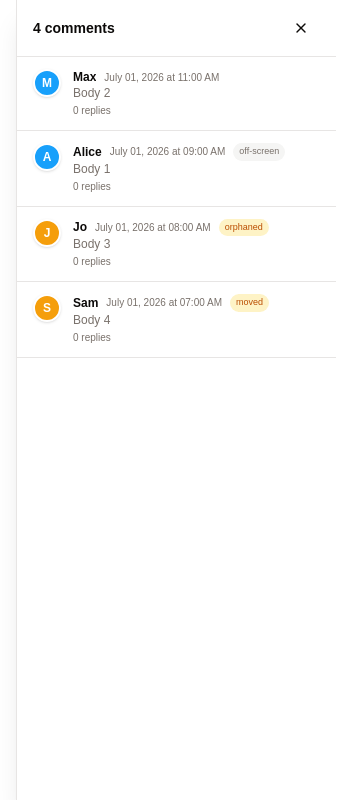
Test: CommentsDrawer › efface la note « hors écran » quand on sélectionne ensuite une ligne visible
Click the button with test id "drawer-row" that starts with "Alice".
click(168, 152)  # box [17, 131, 336, 206]
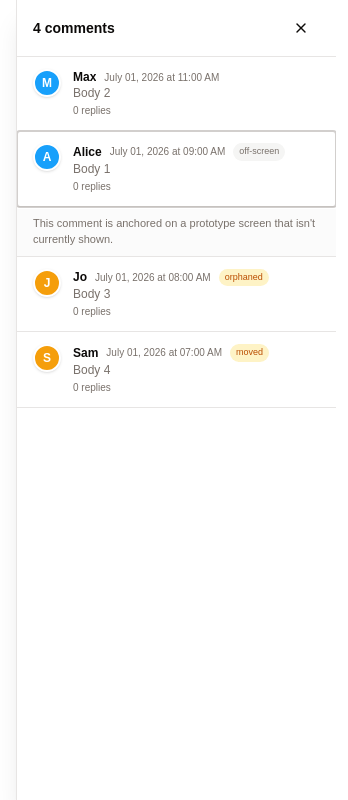
Expected: the text with test id "offscreen-notice" is shown, [17, 206, 336, 256]
Click the button with test id "drawer-row" that starts with "Max".
click(162, 77)  # box [17, 57, 336, 131]
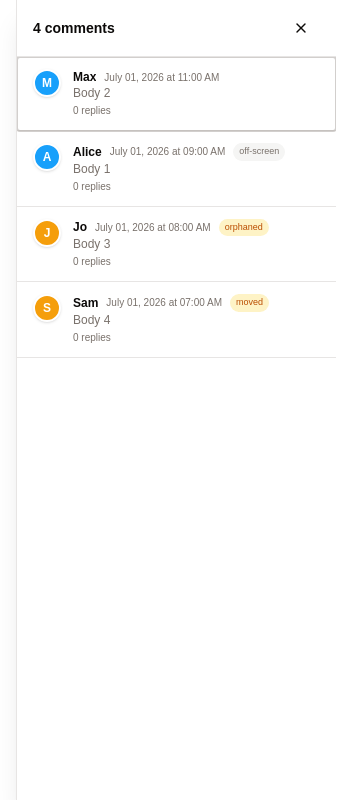
Expected: the text with test id "offscreen-notice" is gone
